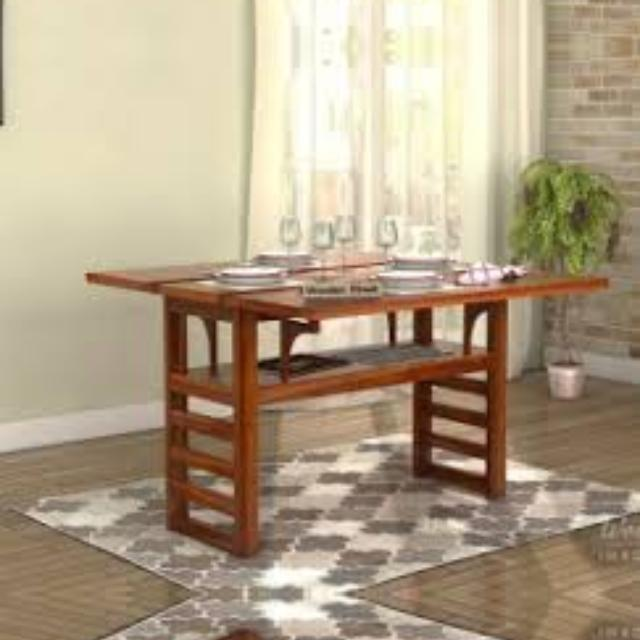obstacle: (64, 195, 626, 567), (64, 621, 626, 640)
